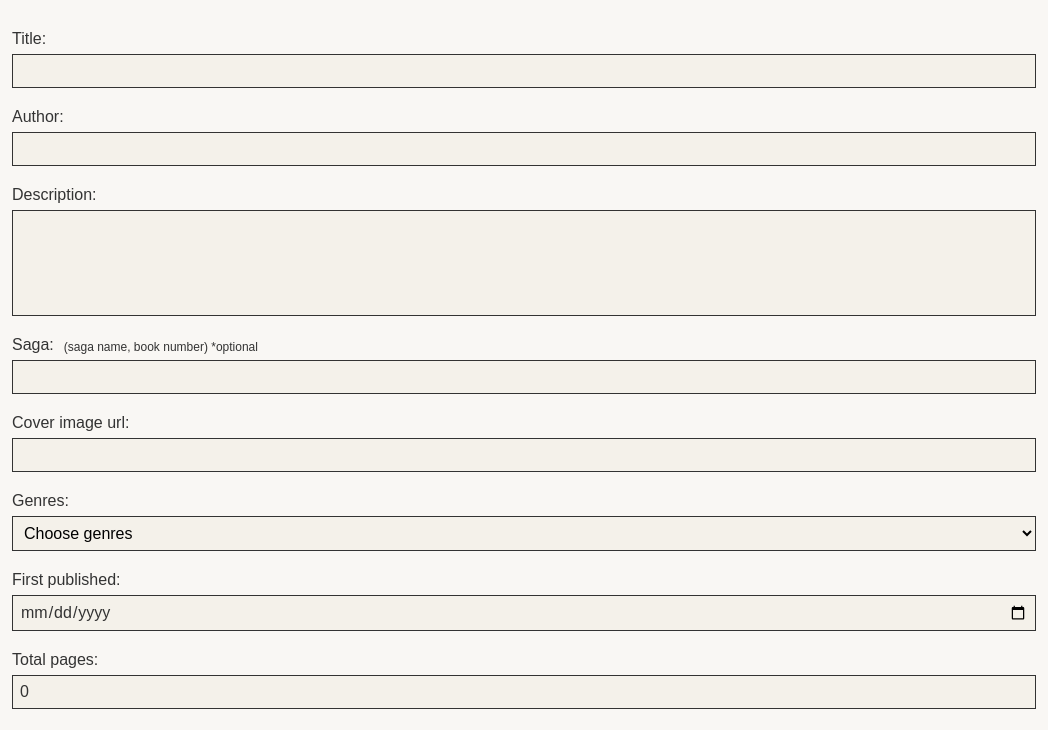
Given the BookForm component › When it renders › And the user selects 'Fiction' and 'Non-fiction' in 'Genres' options select › Then it should show 'Fiction' and 'Non-fiction' as genres selected
This screenshot has width=1048, height=730.
Select "Fiction" in the dropdown labelled "Genres:" at (524, 534), box [12,516,1036,551]
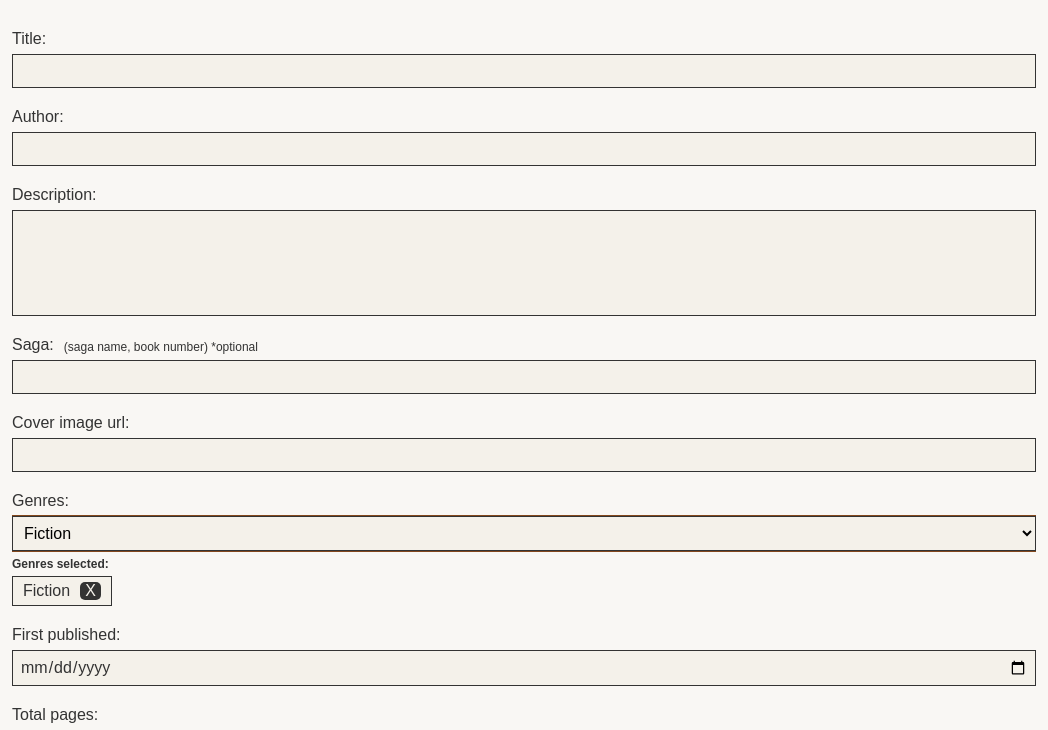
Select "Non-fiction" in the dropdown labelled "Genres:" at (524, 534), box [12,516,1036,551]
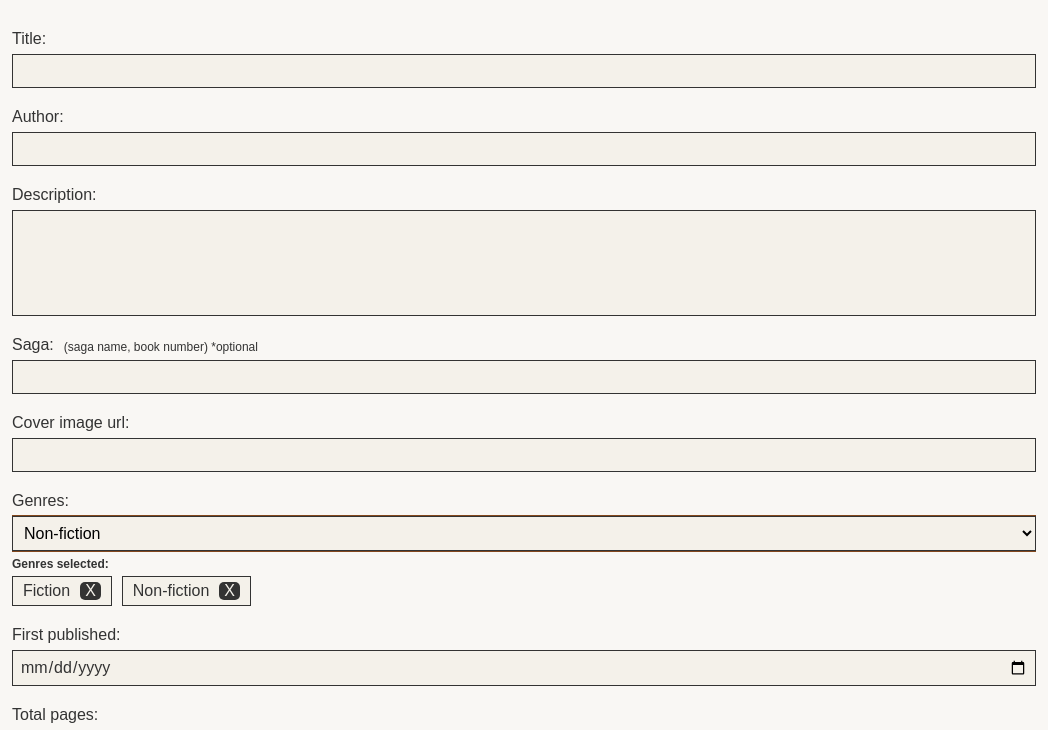
Now the list item "Fiction" is shown, box [23,582,70,599]
Now the list item "Non-fiction" is shown, box [133,582,209,599]
